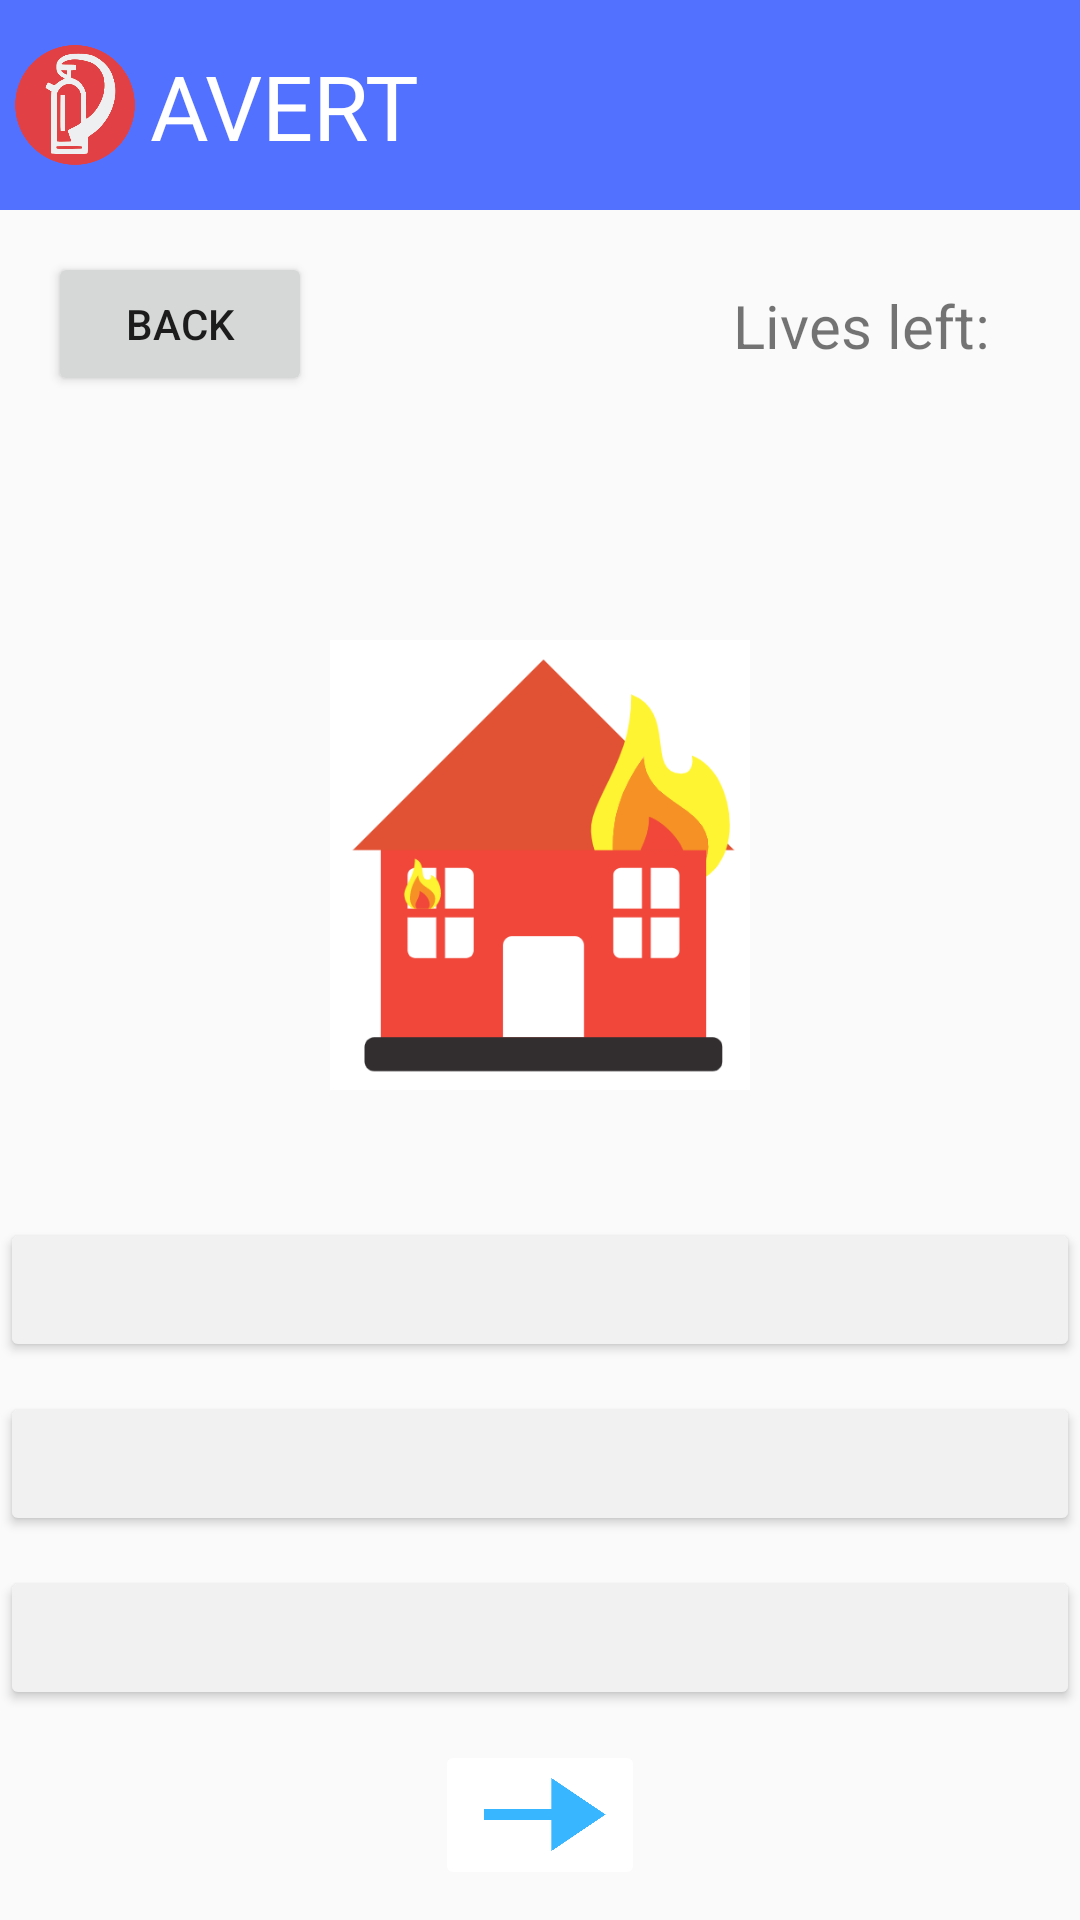

Where to tap for icons on this 1080px x 1920px app screen, as (x,y):
arrow: (545,1814)
